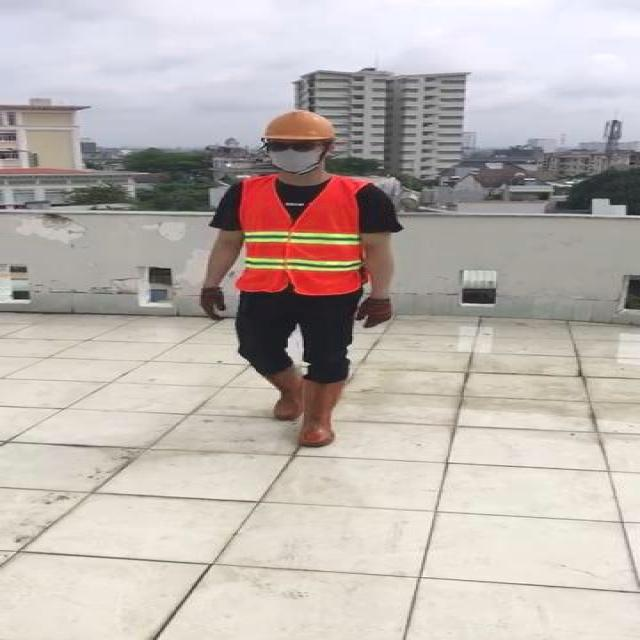boots: (299, 379, 350, 447), (272, 367, 306, 419)
face_mask: (263, 138, 324, 174)
glasses: (260, 137, 326, 155)
hand_glove: (352, 299, 395, 328), (201, 288, 224, 323)
head_helmet: (259, 107, 337, 143)
person: (186, 101, 412, 456)
vest: (236, 177, 364, 293)
